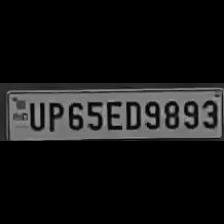3: (200, 96, 218, 130)
5: (84, 98, 104, 130)
6: (64, 99, 82, 131)
8: (162, 98, 180, 130)
9: (142, 98, 162, 130), (180, 97, 200, 129)
D: (122, 98, 142, 130)
E: (104, 97, 122, 130)
P: (44, 98, 62, 132)
U: (24, 99, 43, 130)
